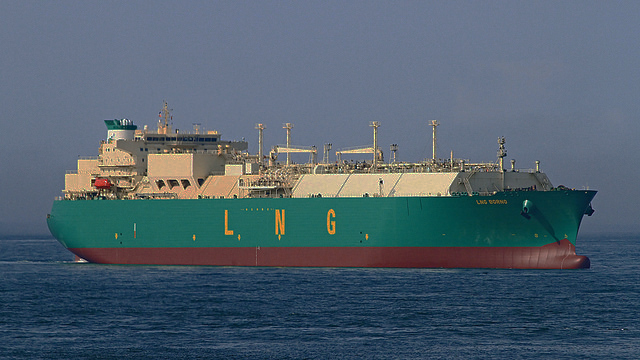LNG_ship: (45, 104, 598, 269)
